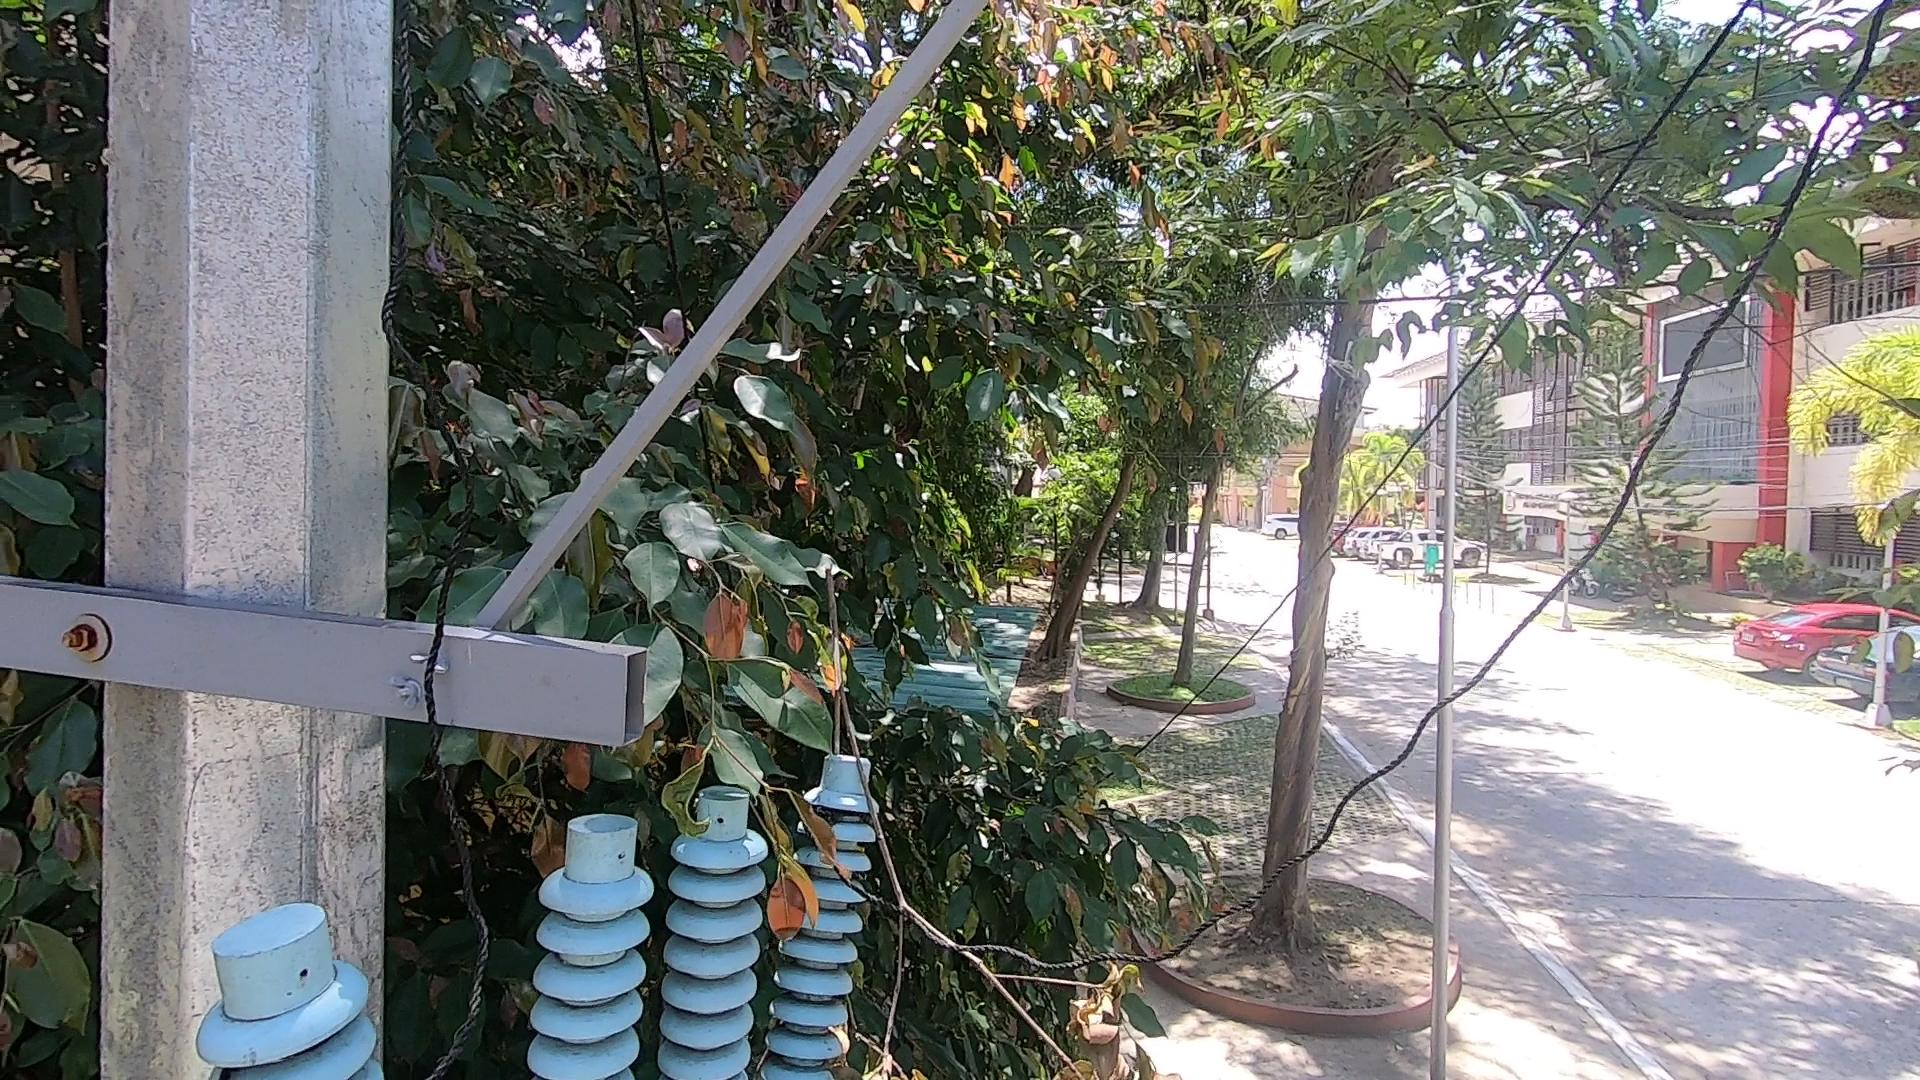branch with leaves: (800, 558, 1222, 1080)
